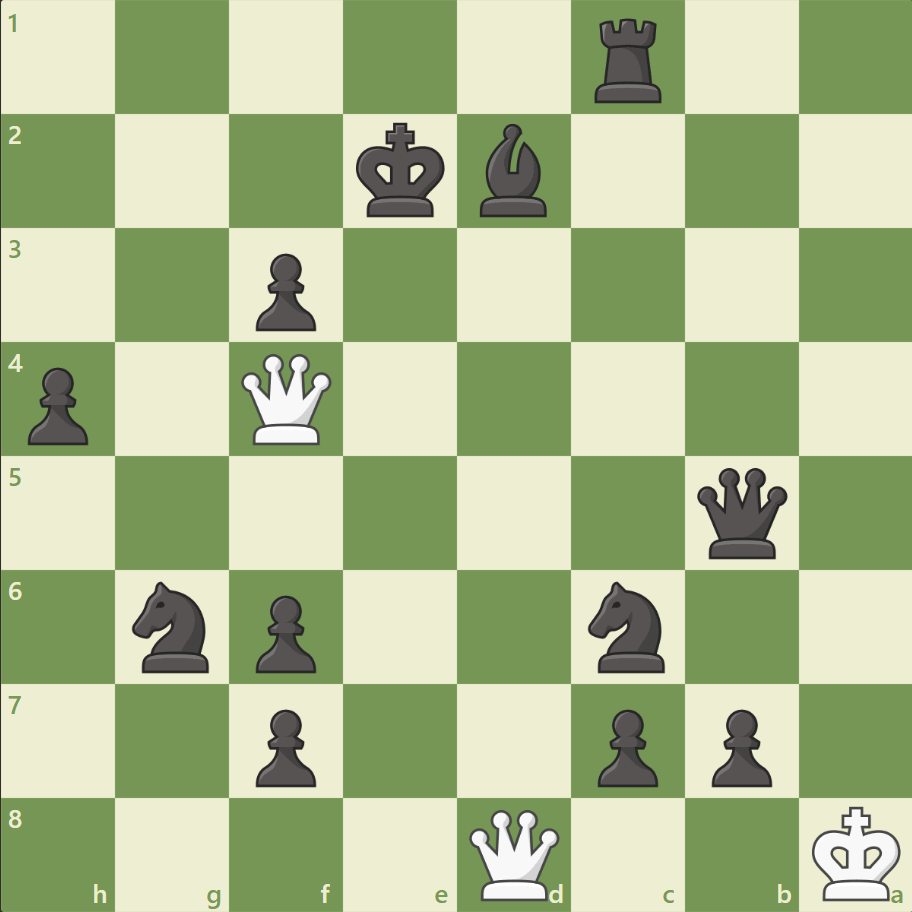K: (806, 798, 906, 906)
Q: (237, 349, 336, 449), (464, 804, 563, 903)
b: (471, 120, 555, 222)
k: (351, 117, 451, 225)
n: (124, 575, 222, 677), (579, 575, 676, 677)
p: (701, 700, 776, 791), (247, 700, 322, 791), (247, 586, 322, 677), (20, 359, 95, 450), (247, 246, 322, 337), (588, 700, 662, 791)
q: (691, 463, 790, 562)
r: (587, 12, 670, 109)
